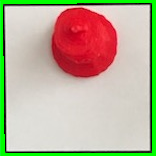Red King: (45, 7, 120, 78)
